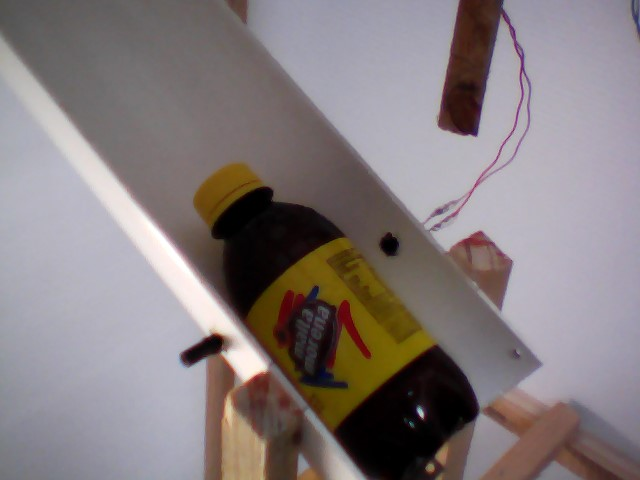plastico: (186, 156, 492, 480)
